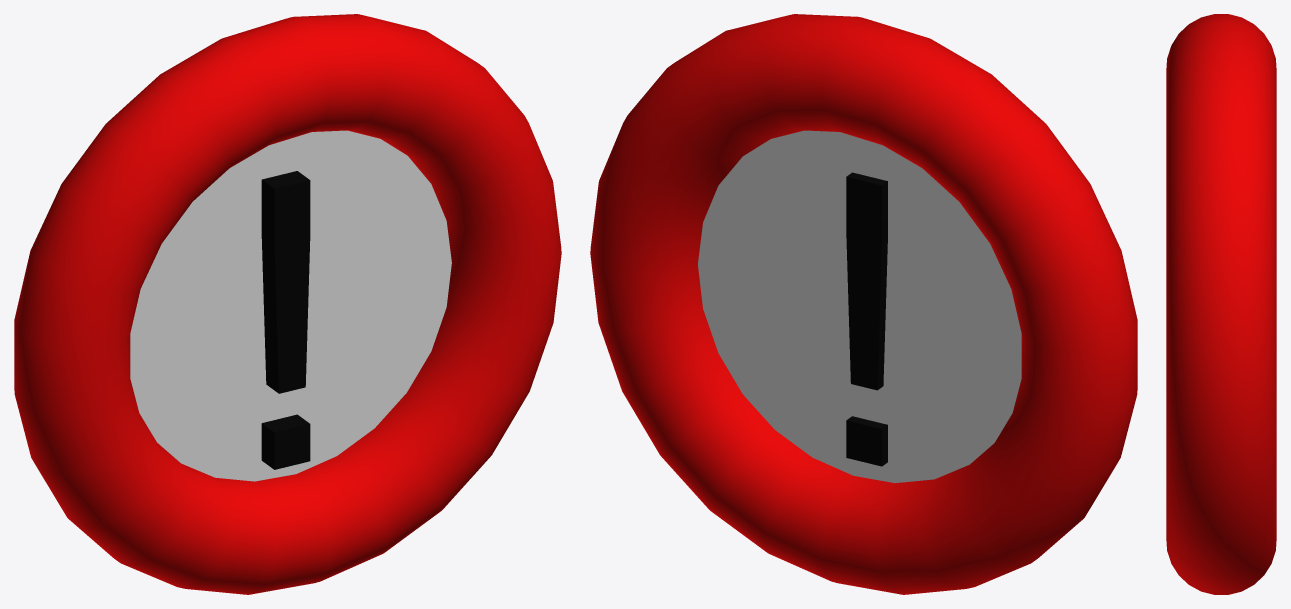
File: NEW ERROR.fbx
The picture shows the model from 3 angles, left to right: view 1: azimuth 30°, elevation 25°; view 2: azimuth 150°, elevation 25°; view 3: azimuth 270°, elevation 25°; orthographic projection. The views are drawn at different scales.
Visible parts, largest first — view 1: NEW_ERROR_FOUND, pDisc1, typeMesh2; view 2: NEW_ERROR_FOUND, pDisc1, typeMesh2; view 3: NEW_ERROR_FOUND.
Part boxes in pixels (x1,y1,x2,y2): NEW_ERROR_FOUND: (14, 14, 561, 594); pDisc1: (130, 130, 451, 481); typeMesh2: (261, 171, 310, 469); NEW_ERROR_FOUND: (590, 14, 1137, 594); pDisc1: (698, 130, 1021, 483); typeMesh2: (846, 172, 887, 466); NEW_ERROR_FOUND: (1166, 14, 1276, 594).
Bounding box in the file's own units: 0.1154 × 0.1156 × 0.022.
